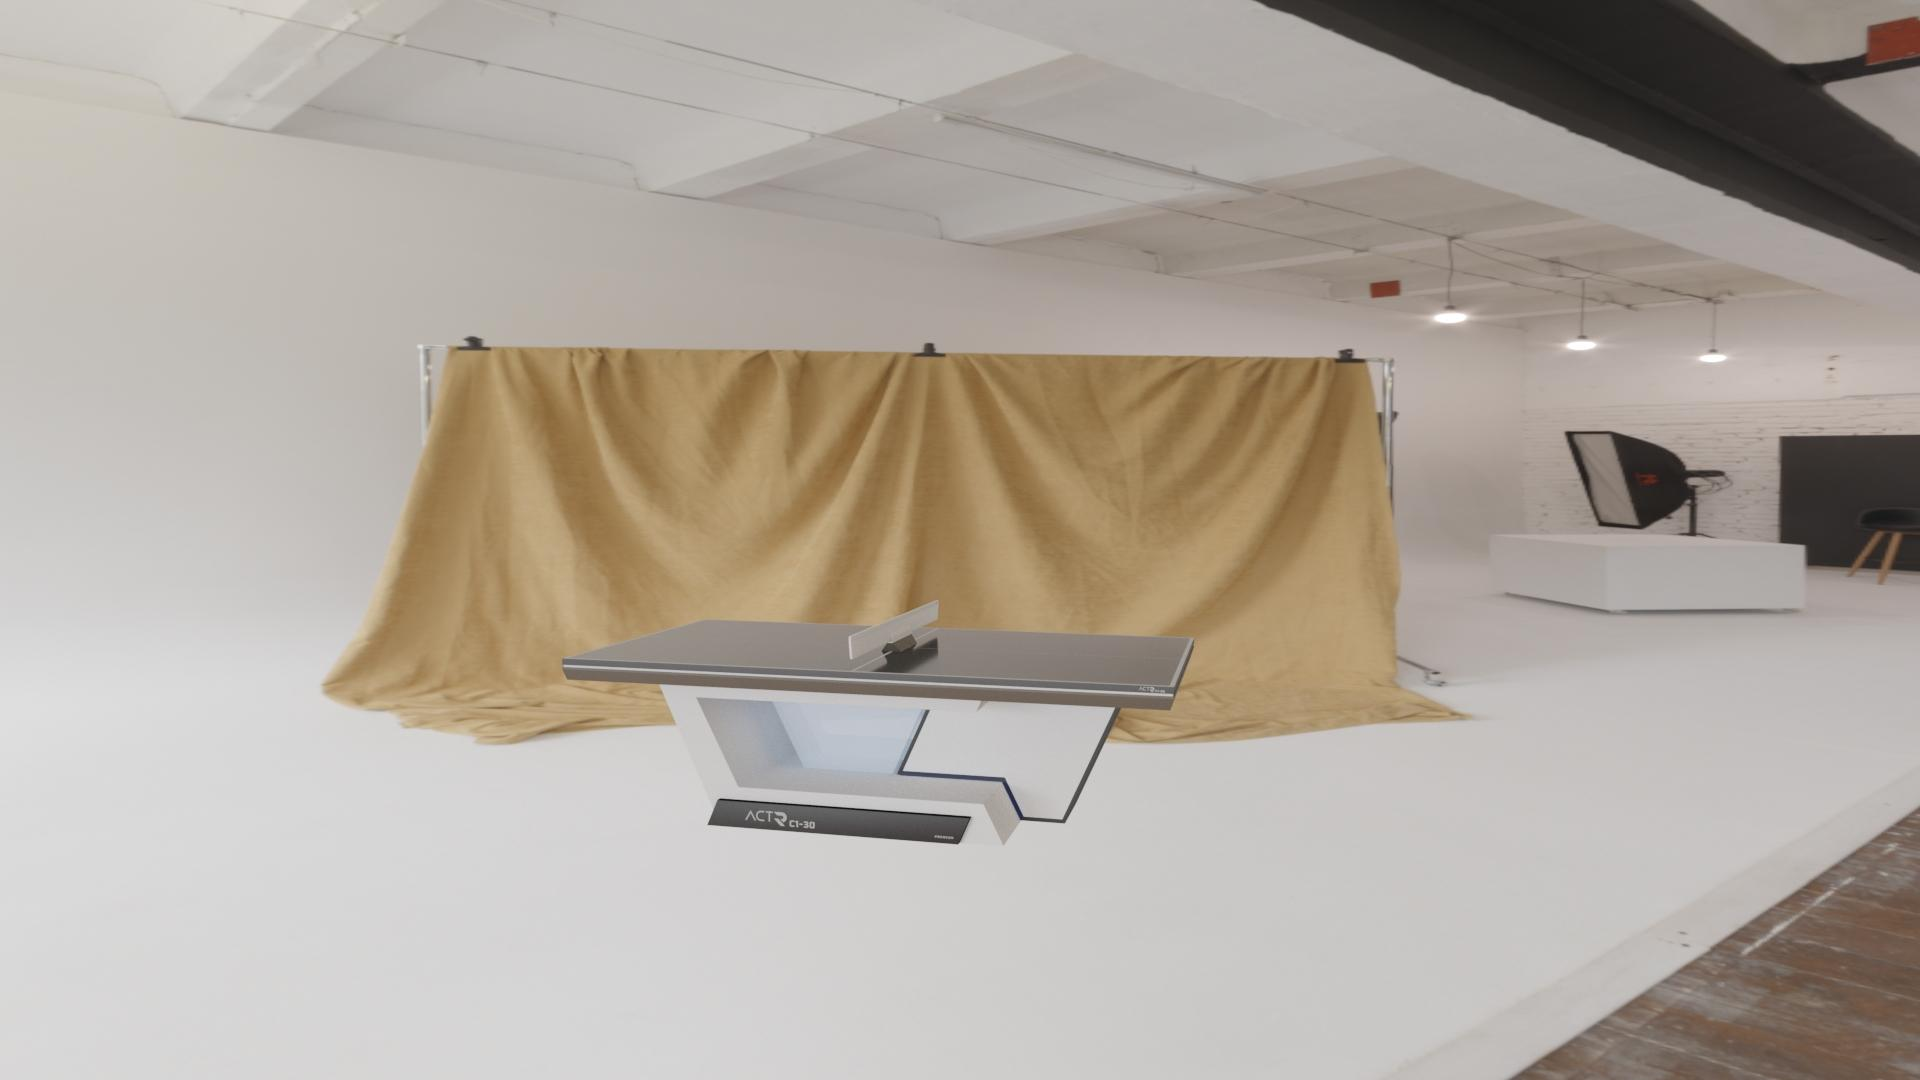table: (568, 620, 1191, 686)
